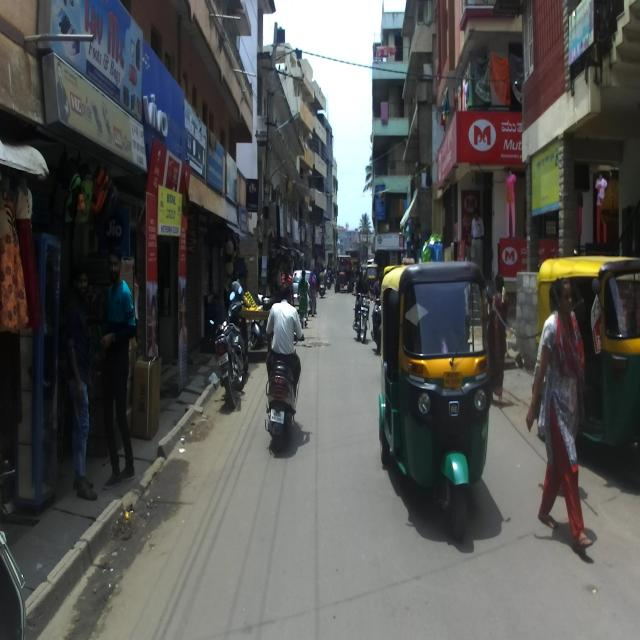high: (546, 268, 587, 552), (478, 274, 506, 410), (296, 266, 306, 328), (308, 268, 316, 316), (281, 263, 290, 294)
